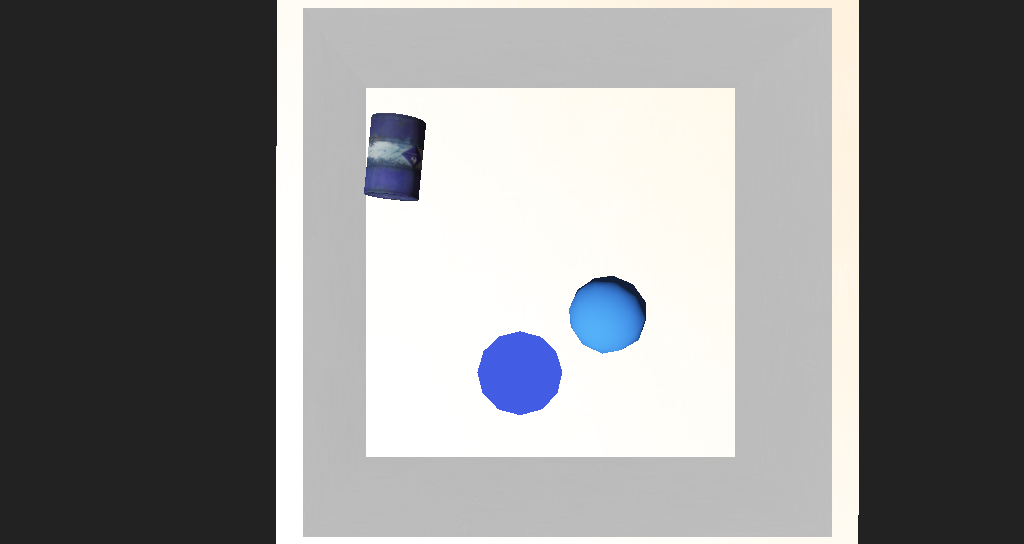cone: (350, 179, 404, 231)
cylinder: (448, 303, 509, 365)
sphere: (522, 267, 583, 315)
